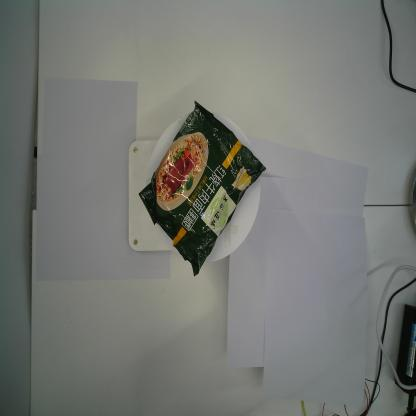Instant Noodles: (136, 98, 268, 278)
